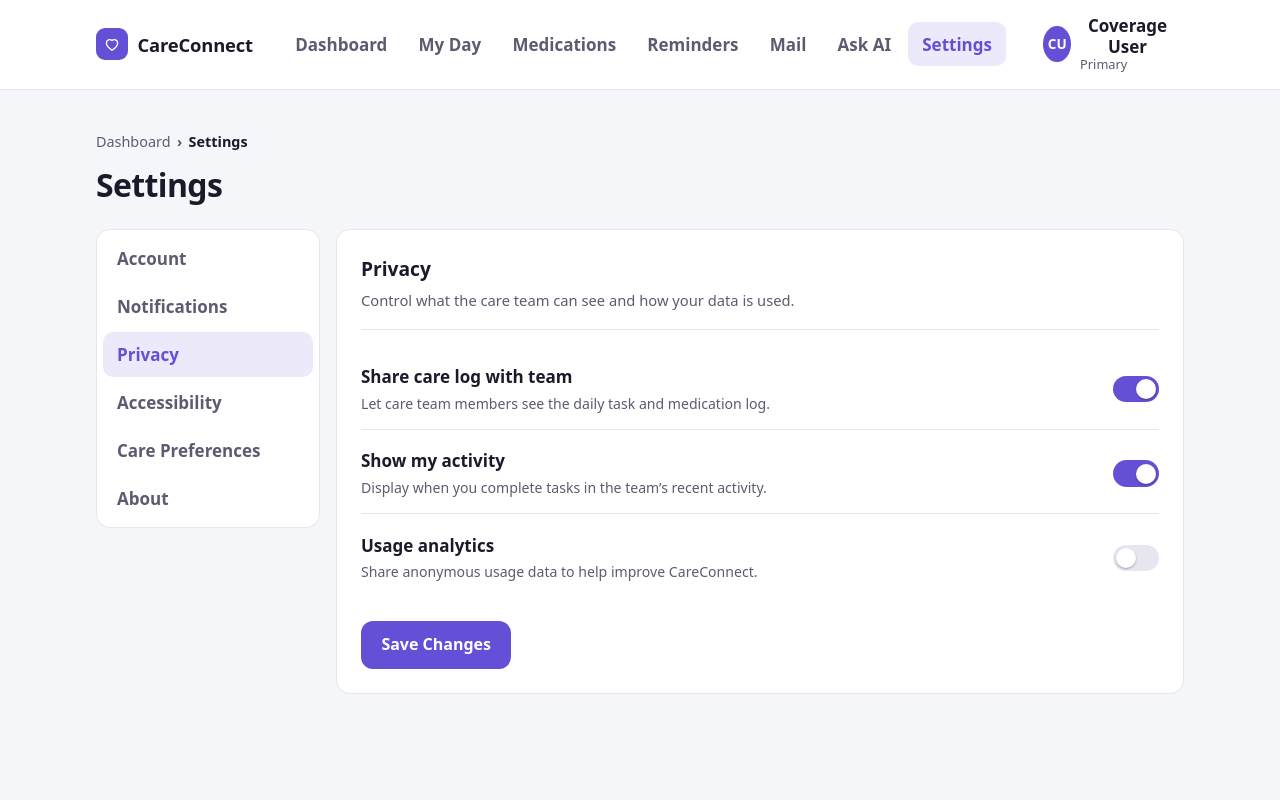
Test: coverage gaps — settings sections › visits Privacy and About, and saves privacy preferences
Expected: the heading "Privacy" is shown, [361,254,431,282]
Click the switch labelled "Share care log with team" at (1136, 389), box [1113,376,1159,402]
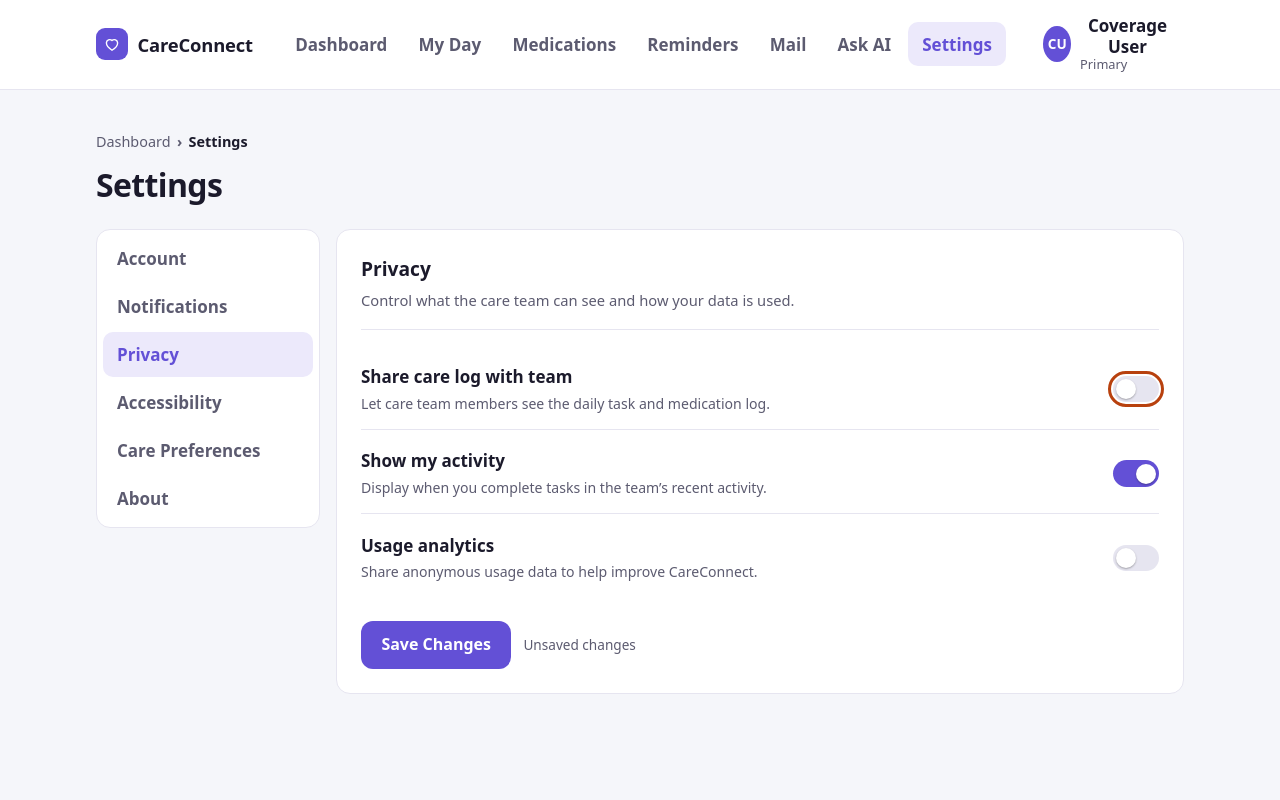
Click the button "Save Changes" at (436, 645), box [361,622,511,669]
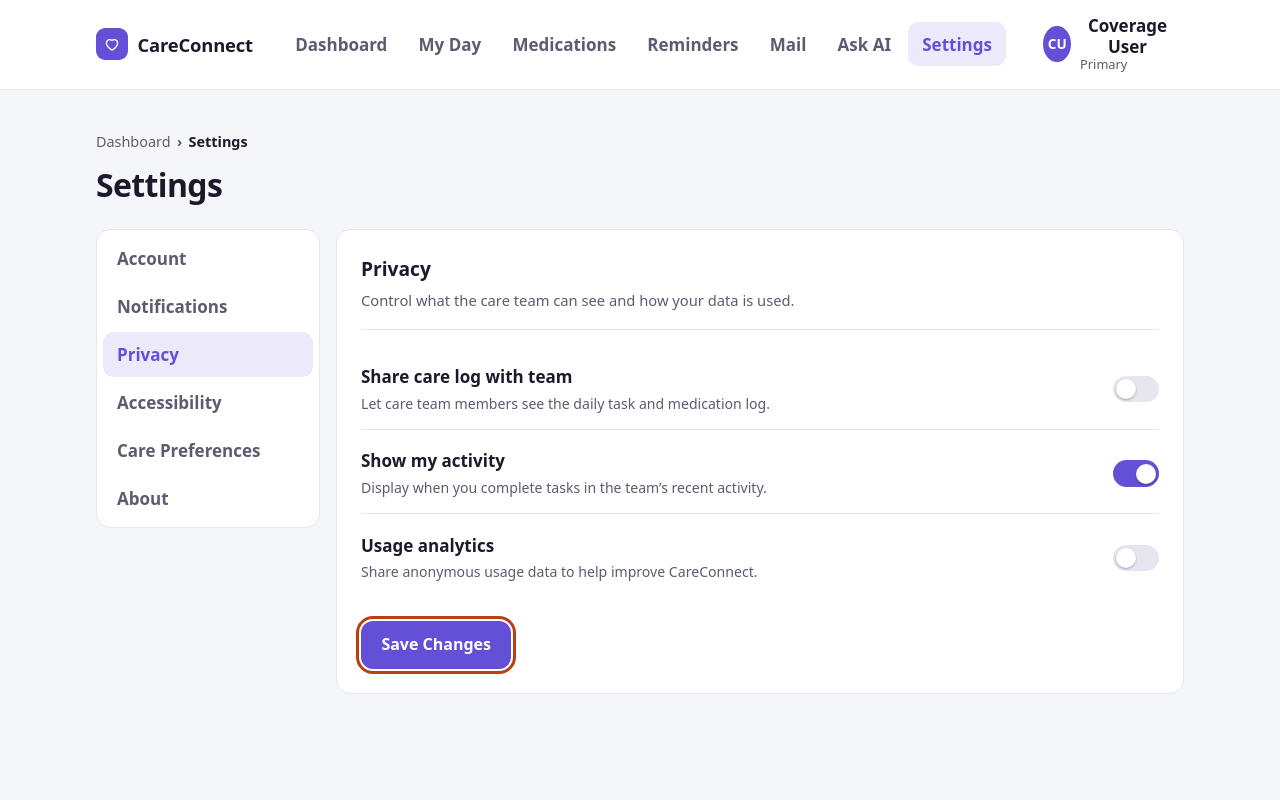
Expected: the text "Unsaved changes" is gone
Click the link "About" at (143, 498), box [117,487,169,510]
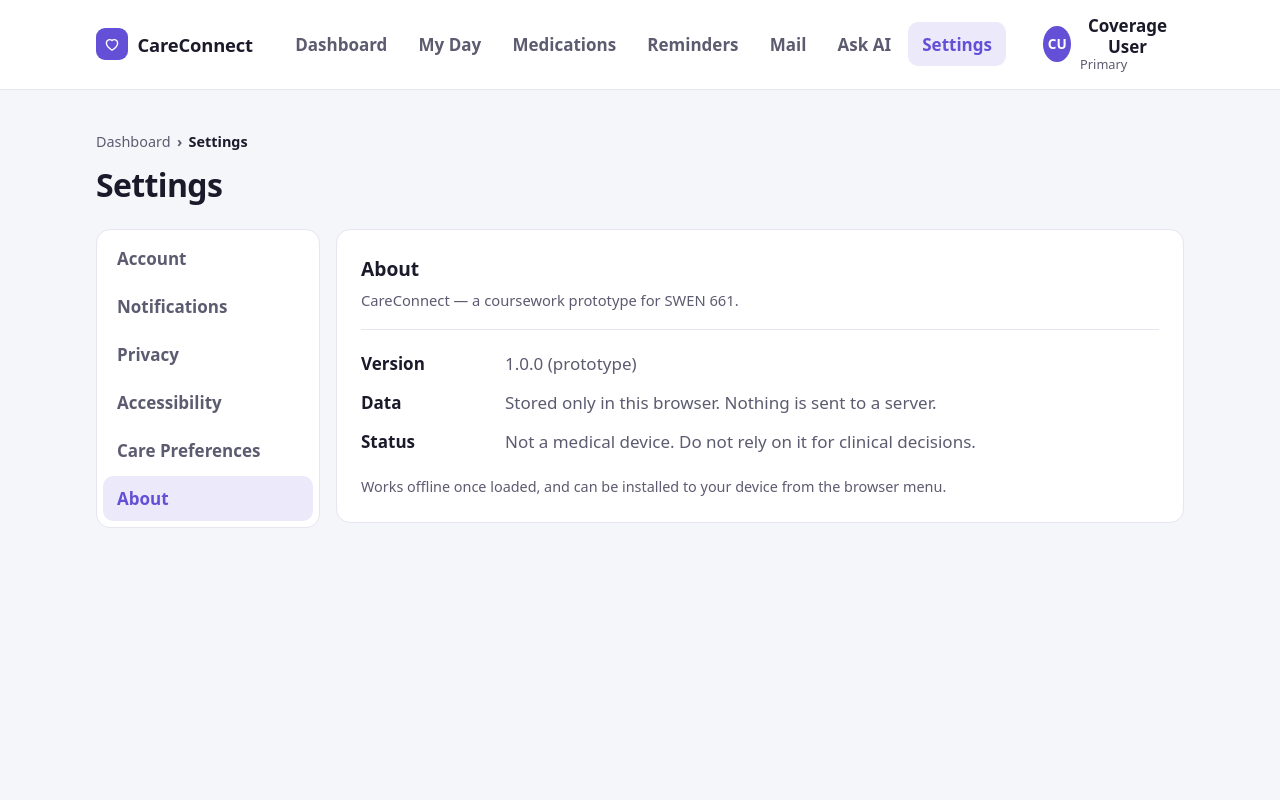
Expected: the heading "About" is shown, [361,254,419,282]
Expected: the text "Not a medical device" is shown, [505,430,976,453]
